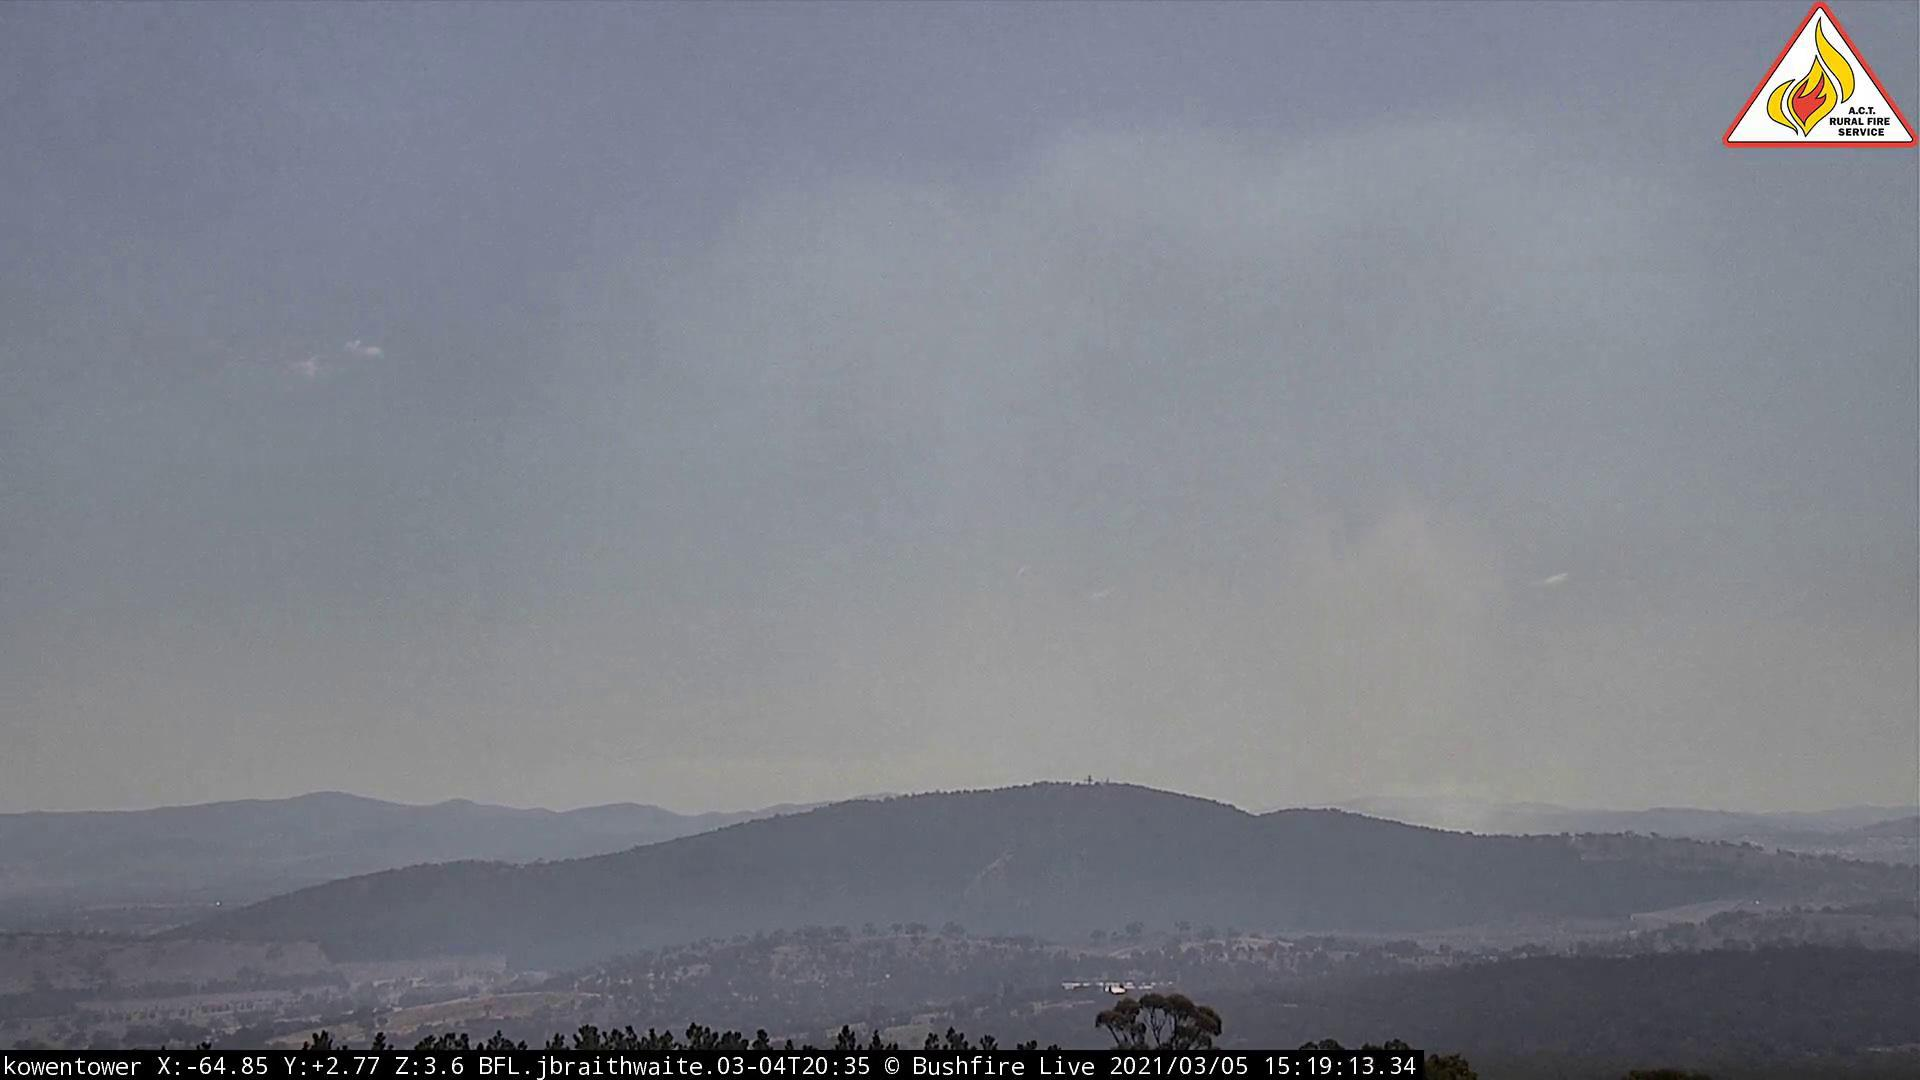Smoke: (1112, 411, 1572, 874)
